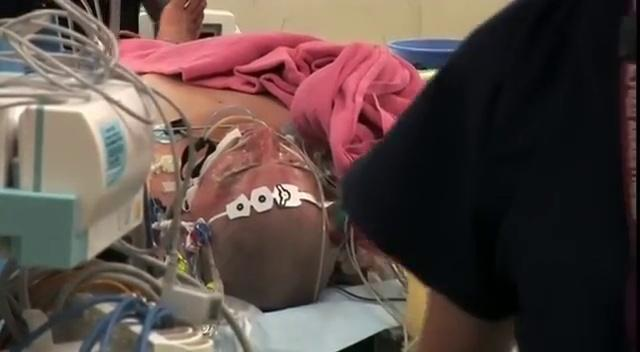others: (337, 0, 637, 351)
patient: (72, 0, 447, 320)
